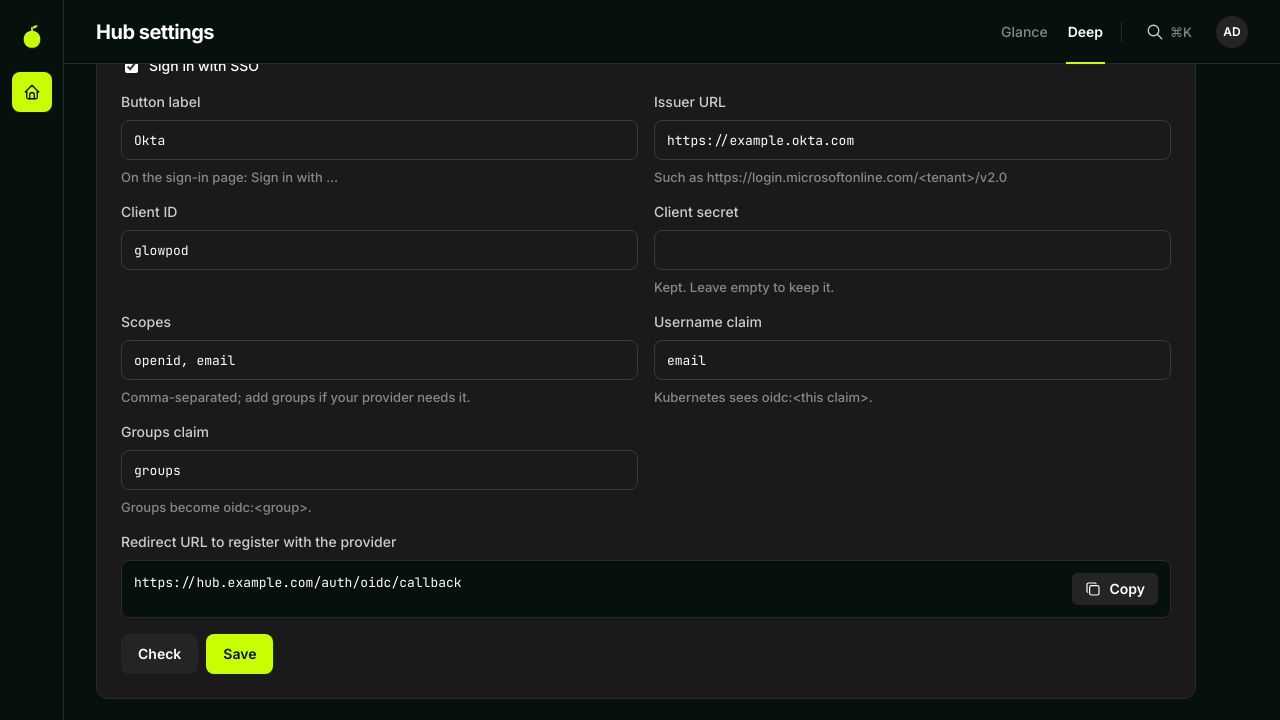
Test: Hub settings › keeps secrets out, keeps typed scopes, and saves SSO
(page scrolled)
Expected: the password field labelled "Client secret" is empty, 654,230 -> 1171,270
Expected: the text "Kept. Leave empty to keep it." is shown, 654,279 -> 834,295
Replace the text in the field labelled "Scopes" with "openid, email, groups": (380, 360) 121,340 -> 638,380
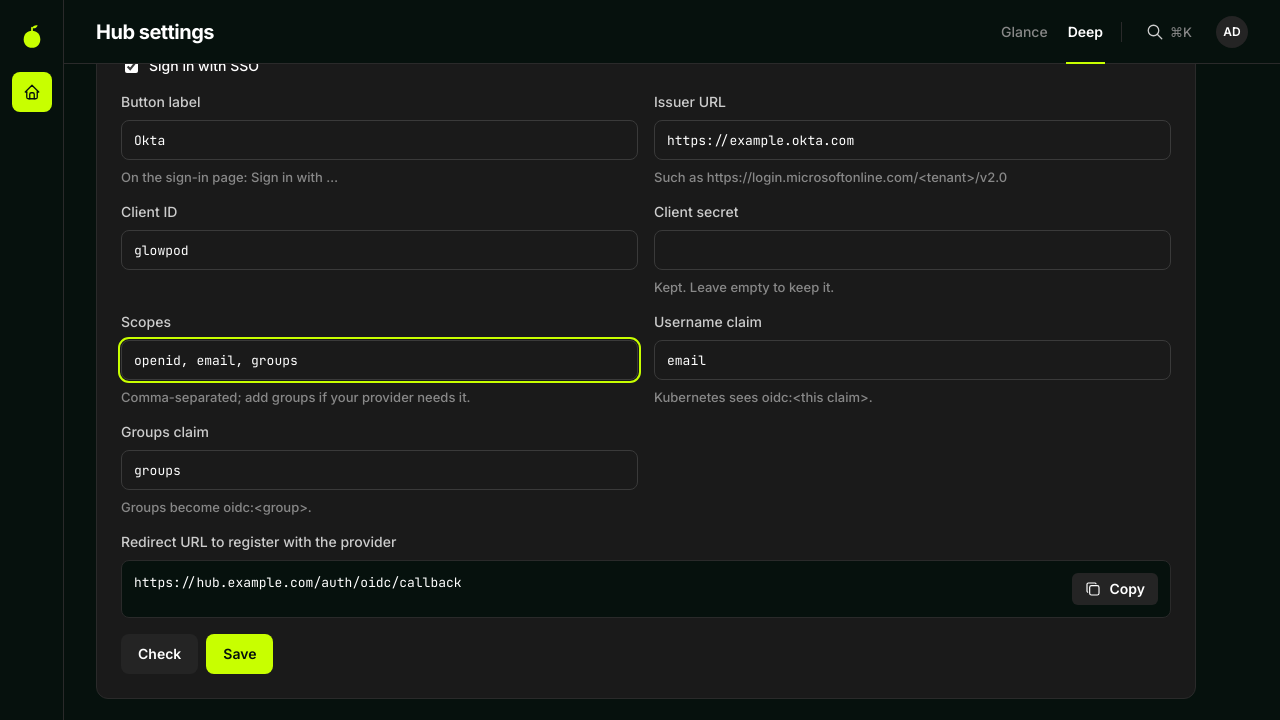
Click the button "Check": (160, 654) 121,634 -> 198,674
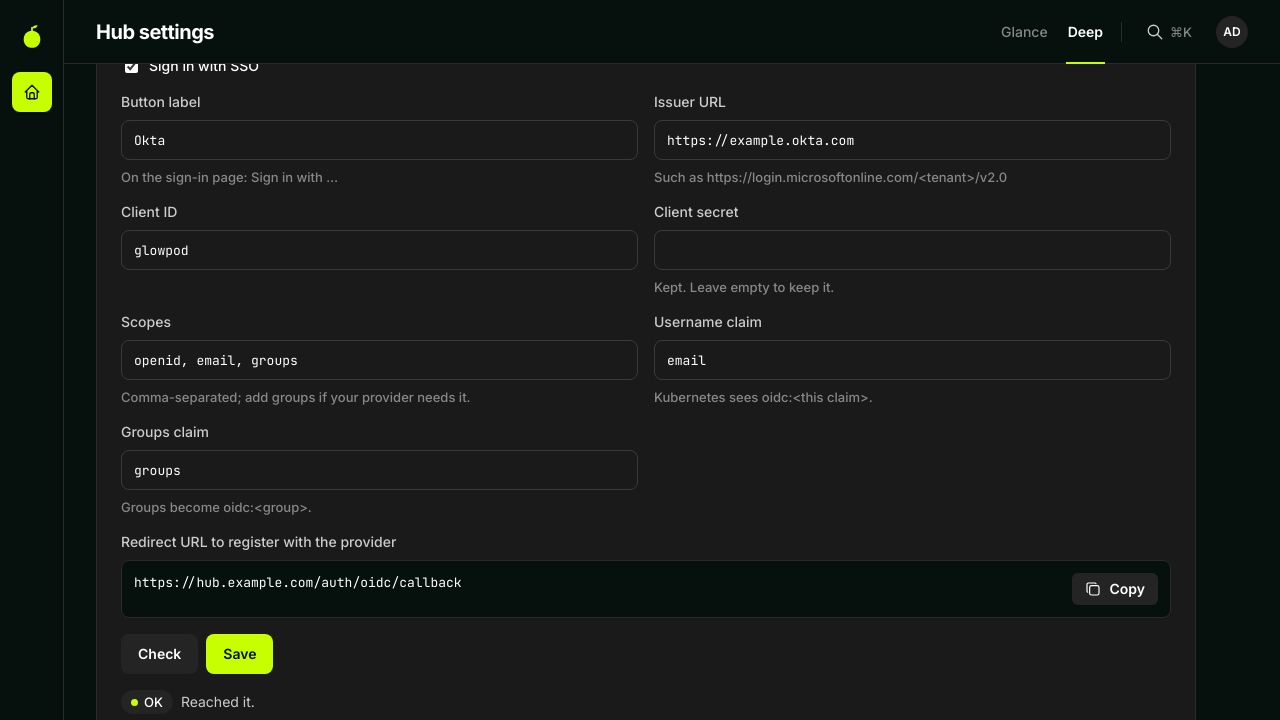
Now the text "Reached it." is shown, box 181,693 -> 255,710
Click the button "Save": (240, 654) 206,634 -> 274,674
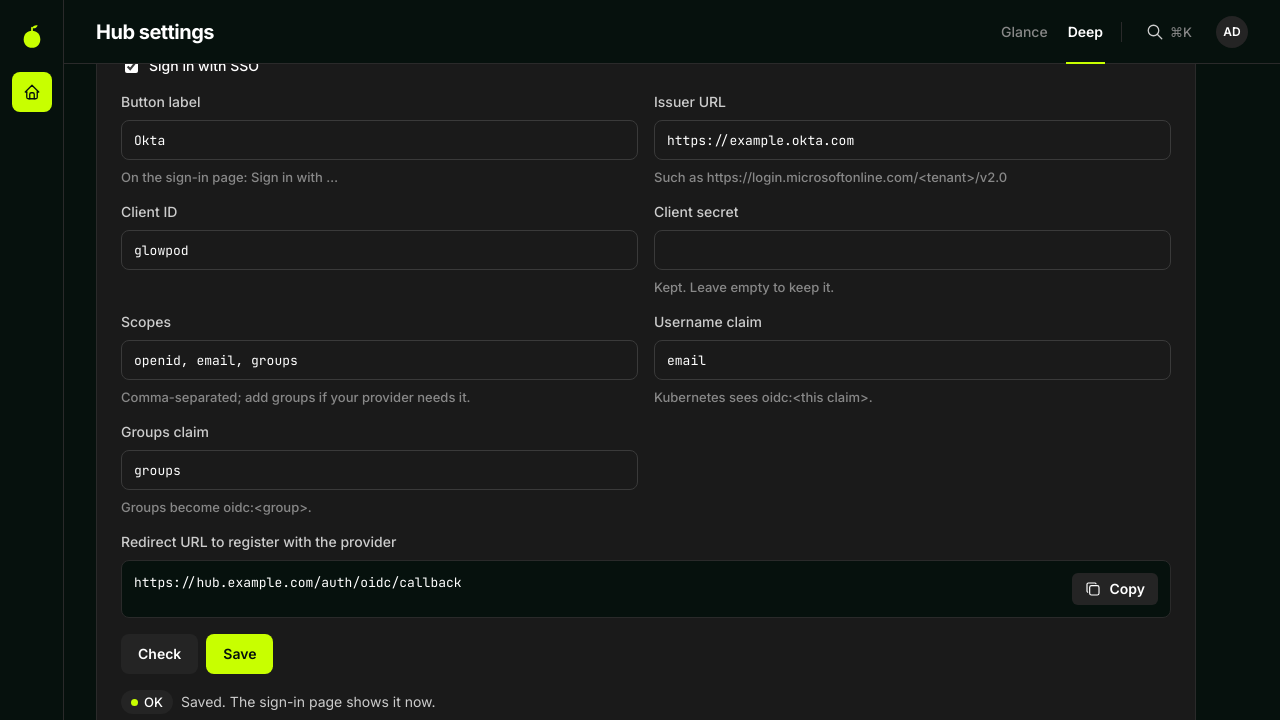
Now the text "Saved. The sign-in page shows it now." is shown, box 181,693 -> 436,710
